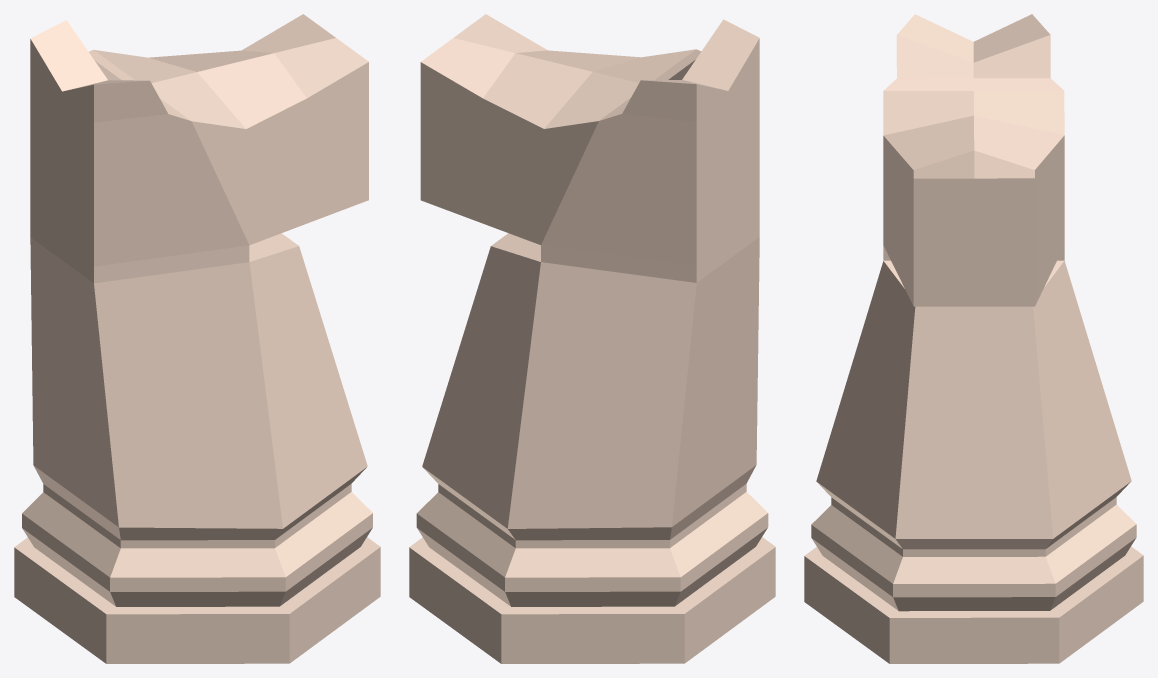
Rendered from chessPieces_Chess_Knight_White.fbx.
The picture shows the model from 3 angles, left to right: view 1: azimuth 30°, elevation 25°; view 2: azimuth 150°, elevation 25°; view 3: azimuth 270°, elevation 25°; orthographic projection. The views are drawn at different scales.
Visible parts, largest first — view 1: Chess_Knight_White; view 2: Chess_Knight_White; view 3: Chess_Knight_White.
Part boxes in pixels (x1=…): Chess_Knight_White: x1=14, y1=14, x2=380, y2=663; Chess_Knight_White: x1=409, y1=14, x2=775, y2=663; Chess_Knight_White: x1=804, y1=14, x2=1143, y2=663.
Bounding box in the file's own units: 233 × 457 × 267.
